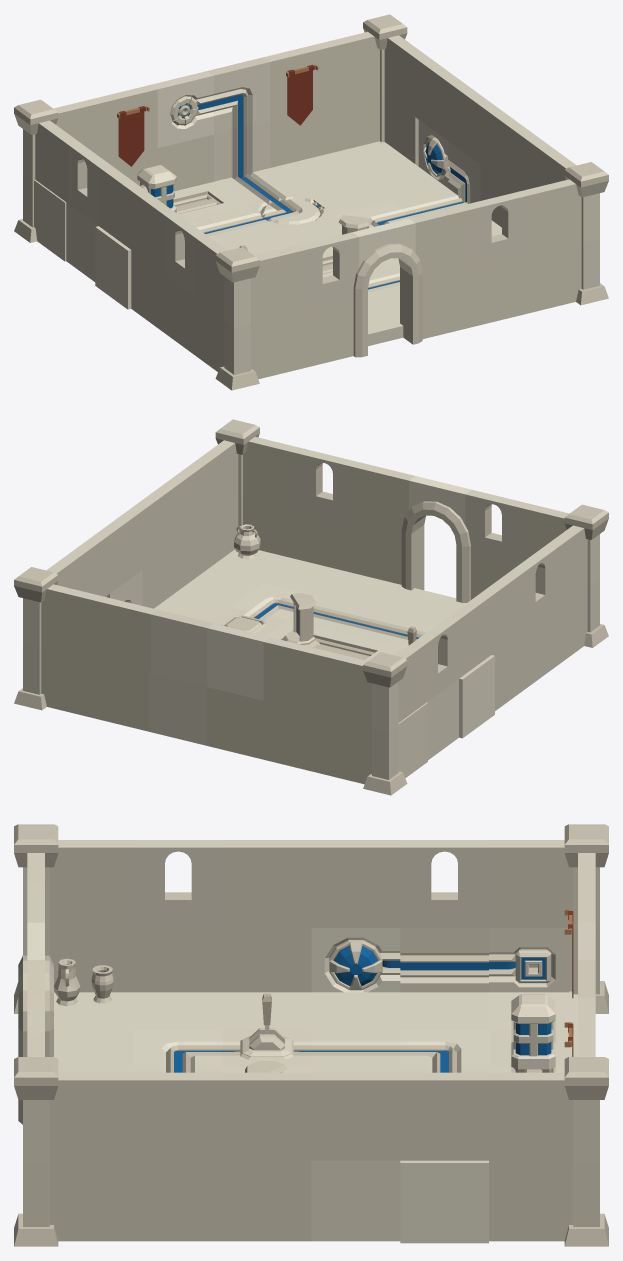
The model's file is puzzle-room.glb.
3 renders of one model, top to bottom at view 1: azimuth 30°, elevation 25°; view 2: azimuth 150°, elevation 25°; view 3: azimuth 270°, elevation 25°, orthographic. The views are drawn at different scales.
Parts seen in each view (by area): view 1: wall-straight-middle (×31), wall-straight-window (×4), floor (×7), pillar-wall-top (×4), puzzle-floor-conduit-standard-straight (×4), wall-straight-doorway, puzzle-wall-conduit-path-corner (×2), puzzle-wall-conduit-path-straight (×2), pillar-wall-base (×3), puzzle-wall-conduit-indicator-a (×2), puzzle-wall-conduit-emitter-end, puzzle-wall-conduit-keyhole-end (+7 smaller); view 2: wall-straight-middle (×32), wall-straight-window (×4), floor (×6), pillar-wall-top (×4), puzzle-wall-conduit-path-straight (×2), wall-straight-doorway, puzzle-wall-conduit-path-corner (×2), pillar-wall-base (×3), puzzle-wall-conduit-emitter-end, puzzle-floor-conduit-standard-straight (×2), puzzle-wall-conduit-indicator-a, puzzle-track-standard-end (×2) (+5 smaller); view 3: wall-straight-middle (×22), floor (×6), wall-straight-window (×4), puzzle-wall-conduit-indicator-a (×2), pillar-wall-top (×4), puzzle-wall-conduit-path-corner (×2), puzzle-floor-conduit-standard-corner (×2), pillar-wall-base (×3), puzzle-wall-conduit-path-straight, puzzle-wall-conduit-keyhole-end, puzzle-floor-conduit-standard-straight, puzzle-sliding-key (+8 smaller).
Boxes of the visible parts, x1,y1,x2,y2 form: wall-straight-middle (×31): (35, 32, 581, 379); wall-straight-window (×4): (66, 140, 527, 309); floor (×7): (223, 141, 447, 346); pillar-wall-top (×4): (14, 14, 608, 327); puzzle-floor-conduit-standard-straight (×4): (190, 168, 467, 300); wall-straight-doorway: (353, 218, 422, 357); puzzle-wall-conduit-path-corner (×2): (208, 57, 480, 203); puzzle-wall-conduit-path-straight (×2): (66, 121, 270, 281); pillar-wall-base (×3): (14, 173, 608, 390); puzzle-wall-conduit-indicator-a (×2): (95, 120, 450, 309); puzzle-wall-conduit-emitter-end: (151, 71, 213, 147); puzzle-wall-conduit-keyhole-end: (34, 179, 66, 261); wall-straight-middle (×32): (41, 437, 587, 784); wall-straight-window (×4): (296, 448, 556, 701); floor (×6): (154, 549, 461, 624); pillar-wall-top (×4): (14, 419, 608, 732); puzzle-wall-conduit-path-straight (×2): (151, 673, 458, 759); wall-straight-doorway: (401, 476, 471, 602); puzzle-wall-conduit-path-corner (×2): (106, 570, 213, 686); pillar-wall-base (×3): (14, 578, 608, 795); puzzle-wall-conduit-emitter-end: (207, 623, 269, 700); puzzle-floor-conduit-standard-straight (×2): (288, 597, 432, 647); puzzle-wall-conduit-indicator-a: (459, 655, 494, 738); puzzle-track-standard-end (×2): (266, 620, 399, 660); wall-straight-middle (×22): (27, 840, 595, 1241); floor (×6): (54, 992, 488, 1067); wall-straight-window (×4): (27, 840, 488, 1035); puzzle-wall-conduit-indicator-a (×2): (311, 928, 488, 1243); pillar-wall-top (×4): (14, 824, 608, 1162); puzzle-wall-conduit-path-corner (×2): (311, 960, 595, 1241); puzzle-floor-conduit-standard-corner (×2): (134, 1030, 488, 1071); pillar-wall-base (×3): (14, 930, 608, 1246); puzzle-wall-conduit-path-straight: (400, 928, 488, 992); puzzle-wall-conduit-keyhole-end: (489, 928, 572, 992); puzzle-floor-conduit-standard-straight: (311, 1030, 400, 1067); puzzle-sliding-key: (511, 994, 555, 1072).
Size of the model in its own units: 3.02 by 0.9675 by 3.02.
Materials: 1 (1 with a texture image).
